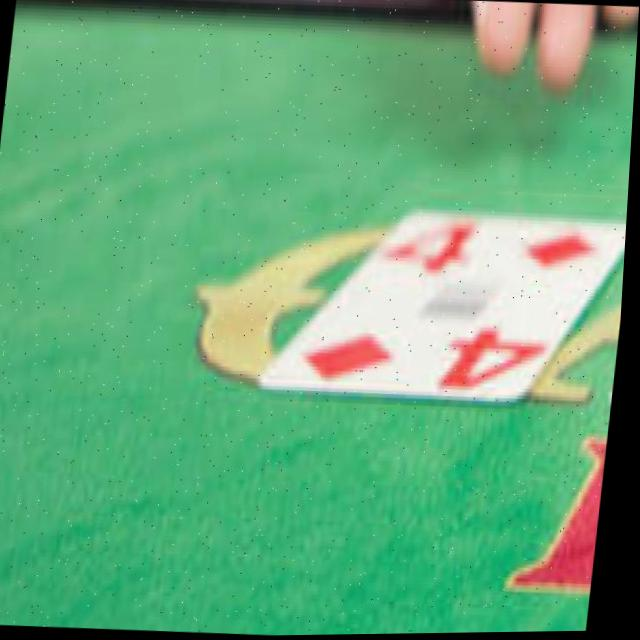Card-4: (266, 211, 629, 397)
